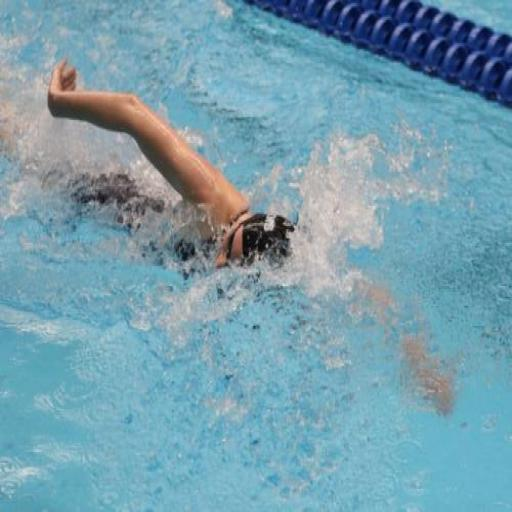swimming: (42, 56, 463, 422)
